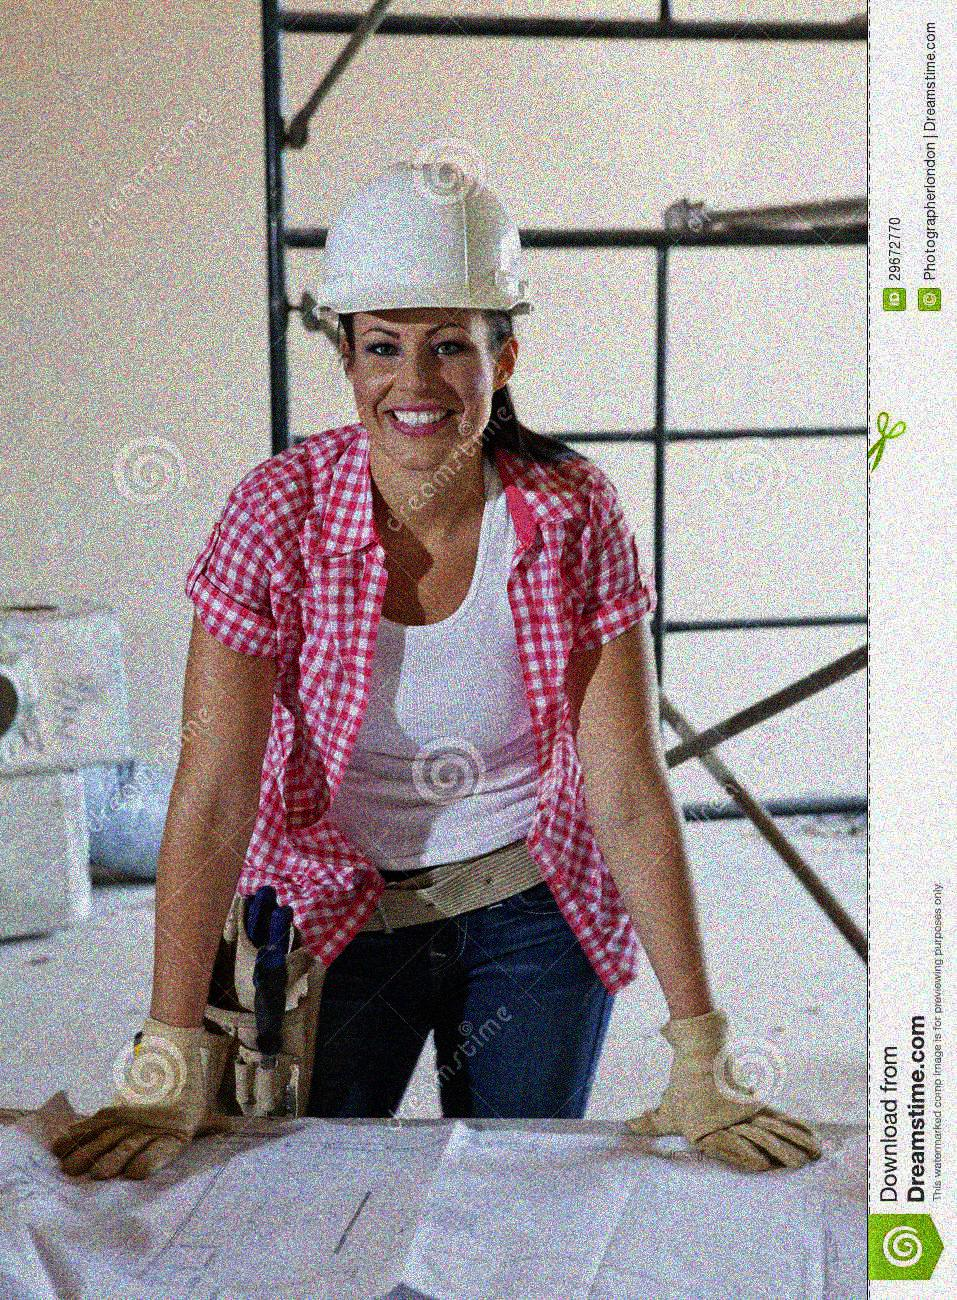helmet: (311, 161, 533, 473)
